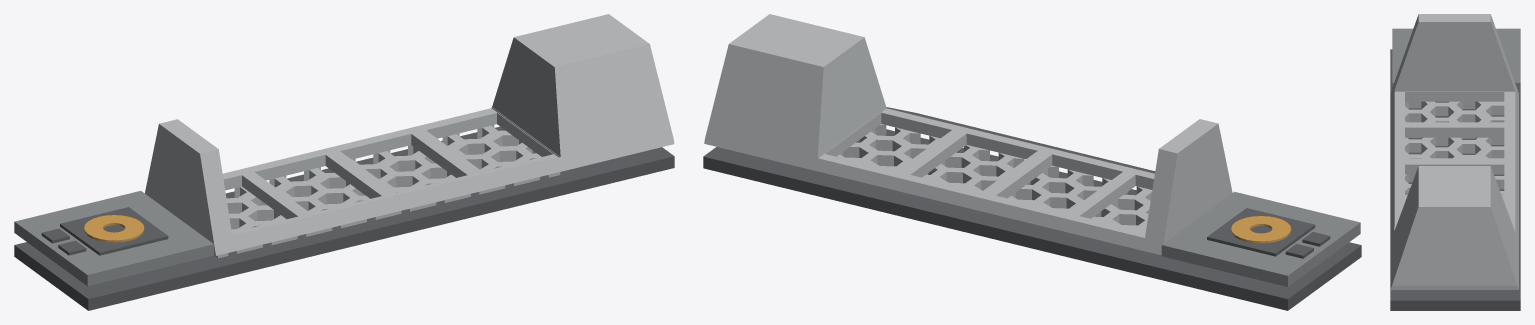
File: Single Storage Drive template.glb
3 views of the same model, side by side, from view 1: azimuth 30°, elevation 25°; view 2: azimuth 150°, elevation 25°; view 3: azimuth 270°, elevation 25° (orthographic). The views are drawn at different scales.
Visible parts, largest first — view 1: Mesh_Mesh_head_geo.001_lambert2SG.001; view 2: Mesh_Mesh_head_geo.001_lambert2SG.001; view 3: Mesh_Mesh_head_geo.001_lambert2SG.001.
Part boxes in pixels (box(x1,y1,x2,y2)): Mesh_Mesh_head_geo.001_lambert2SG.001: box(14, 14, 674, 310); Mesh_Mesh_head_geo.001_lambert2SG.001: box(703, 14, 1361, 310); Mesh_Mesh_head_geo.001_lambert2SG.001: box(1390, 14, 1520, 310).
Bounding box in the file's own units: 132 × 24.69 × 28.98.
